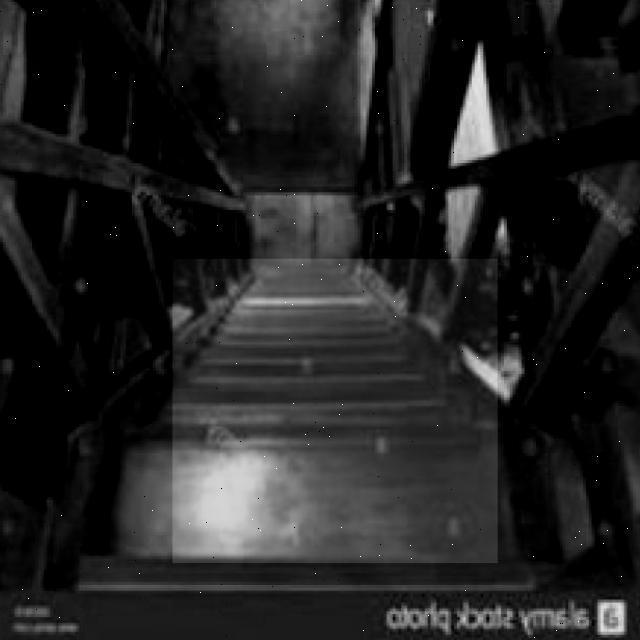stair: (172, 259, 498, 563)
